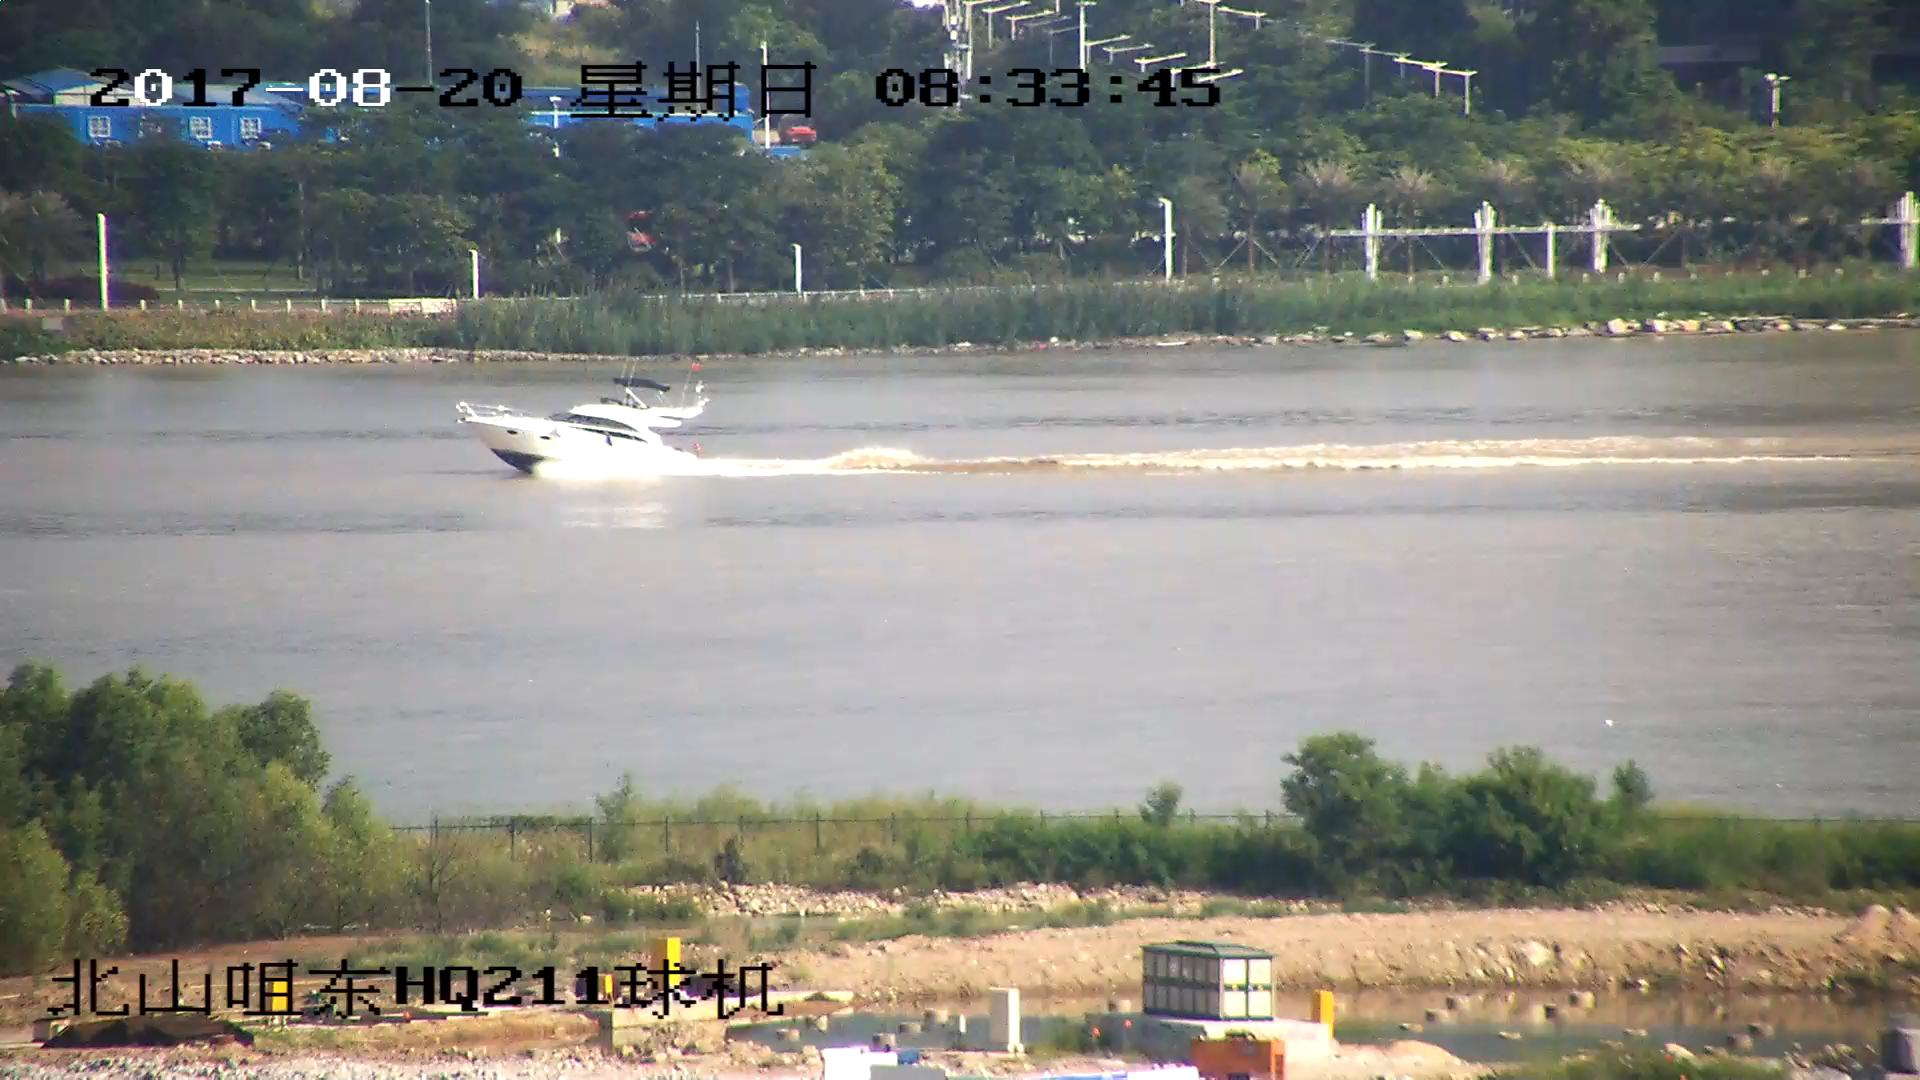passenger ship: (458, 374, 715, 478)
